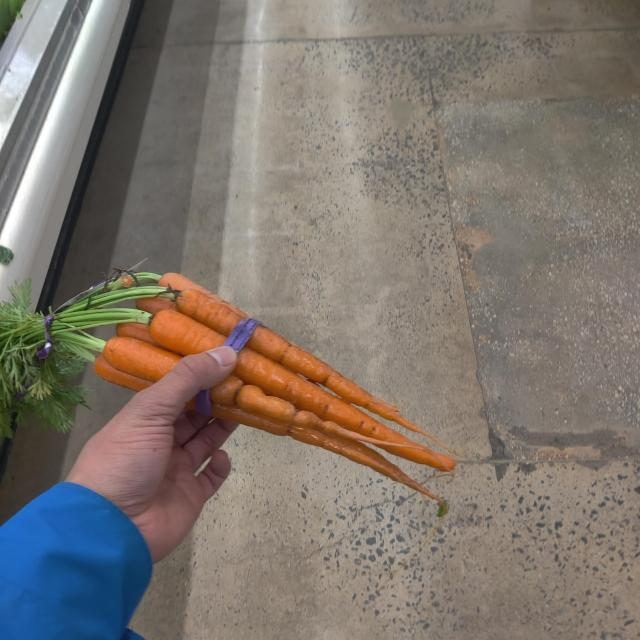Carrot: (0, 267, 470, 510)
